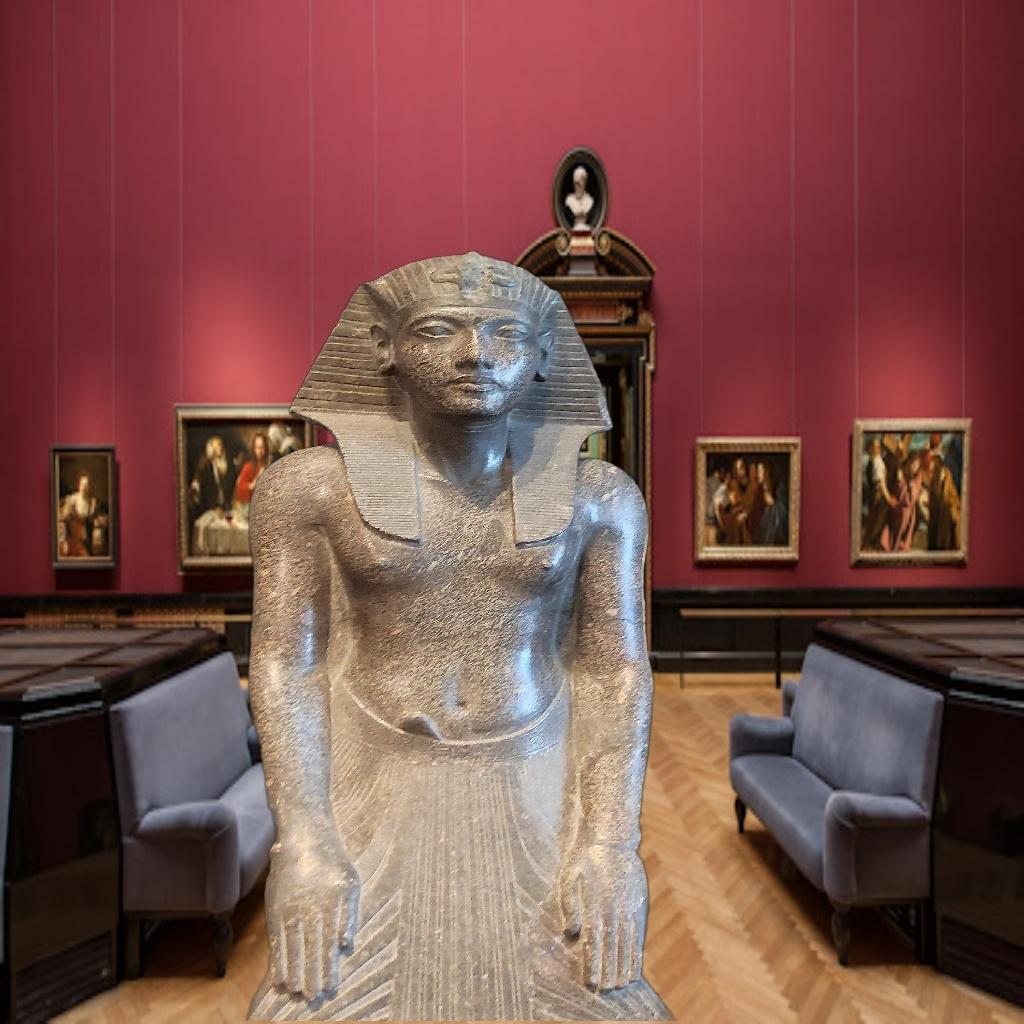Granite Statue of Tutankhamun: (236, 248, 683, 1020)
